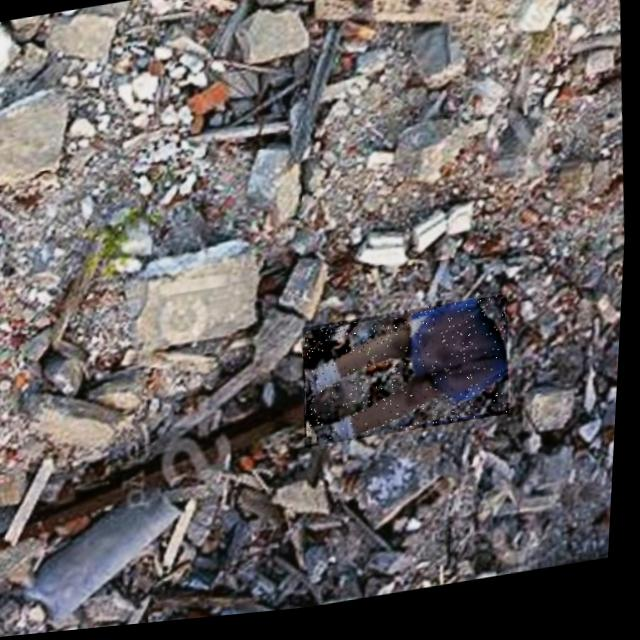Person in Rubble: (300, 304, 517, 455)
